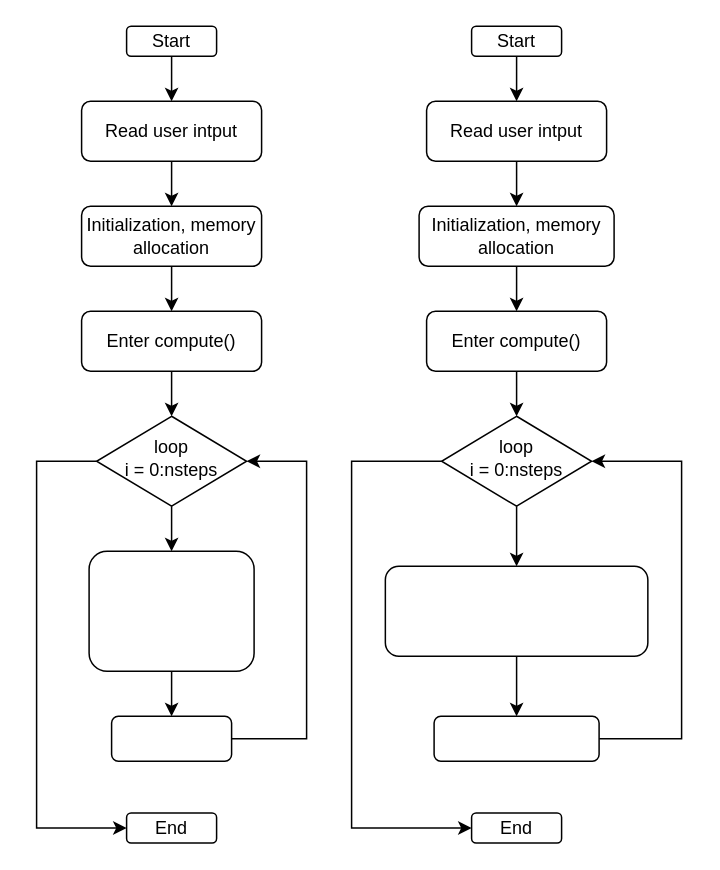
This 720x870 diagram has some shape labels left out. Here are the shapes that lost their labels. From the top down, the centre of each, then its label:
point 171,610: Call: update_seq(), update_omp(), or update_pth(), or update_cu()
point 516,610: Rank 0 broadcase newest data Call: update_part_omp() Rank 0 gather results
point 171,738: Draw frame
point 516,738: Rank 0 draw frame
